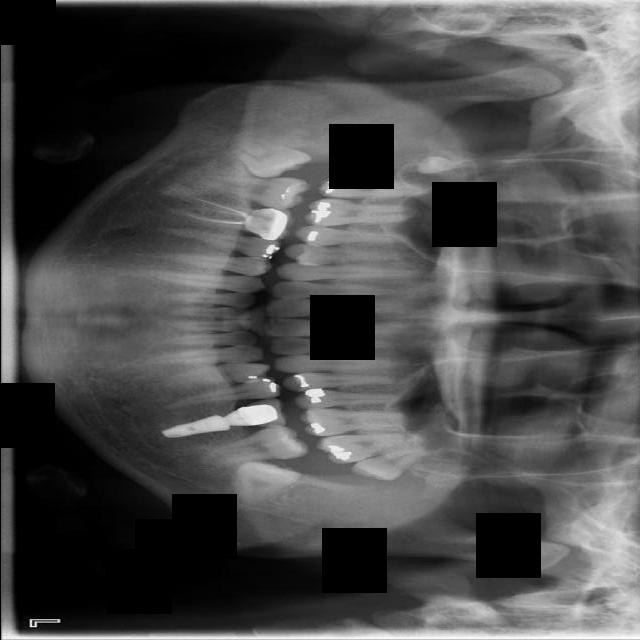3M ESPE Implant: (414, 149, 465, 176)
52: (314, 431, 369, 468), (242, 206, 295, 242), (317, 169, 371, 200), (260, 177, 310, 210), (236, 398, 287, 427), (299, 407, 348, 437), (304, 198, 354, 227), (217, 361, 270, 385), (280, 370, 329, 394), (240, 235, 281, 262), (294, 388, 341, 411), (238, 376, 280, 399), (294, 225, 338, 246)
73: (172, 193, 260, 233)
BioHorizons Implant: (313, 429, 408, 467)
BioLife Implant: (349, 442, 433, 490)
Biomet 3i Implant: (222, 440, 303, 512)
Blue Sky Bio Implant: (198, 422, 311, 467)
Caries: (317, 169, 433, 201)
Implant: (202, 173, 310, 212)
Keystone Dental Implant: (220, 123, 312, 193)
